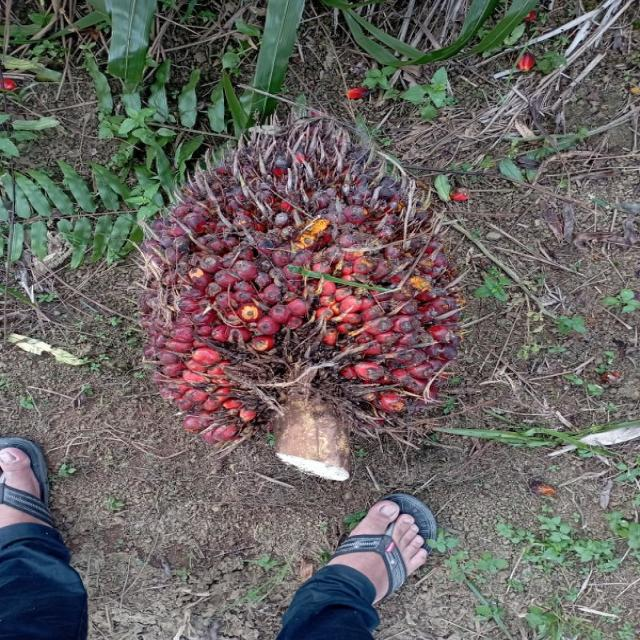fraksi 1: (88, 66, 516, 480)
